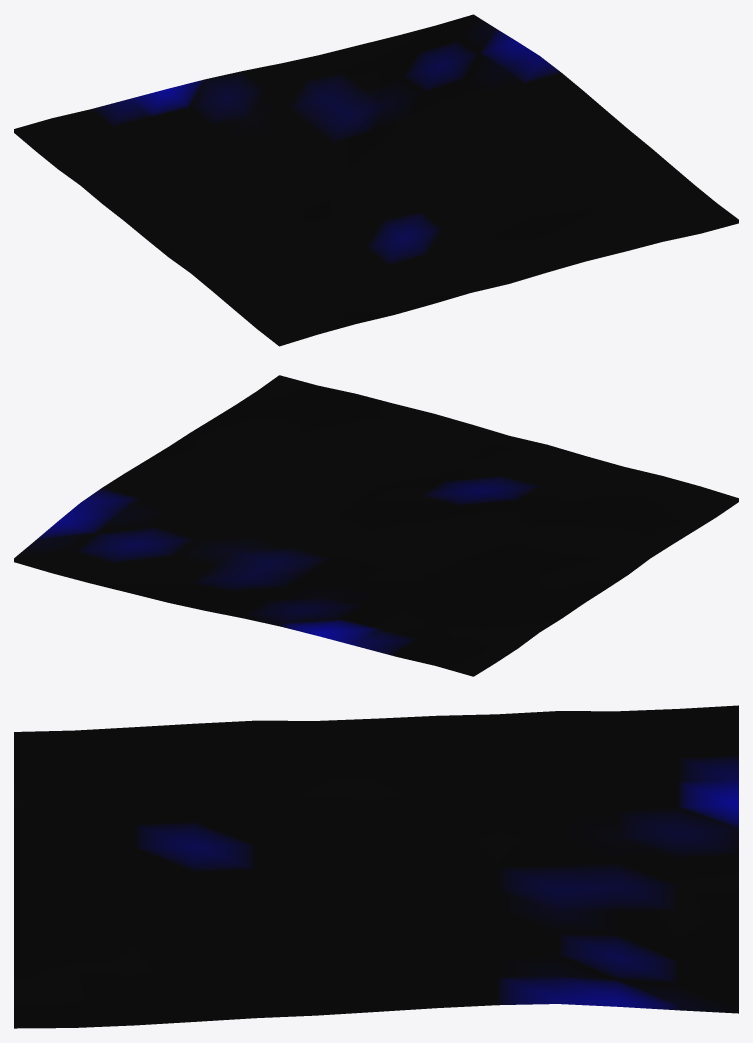
File: coast_3_5.glb
The picture shows the model from 3 angles, top to bottom: view 1: azimuth 30°, elevation 25°; view 2: azimuth 150°, elevation 25°; view 3: azimuth 270°, elevation 25°; orthographic projection. The views are drawn at different scales.
Visible parts, largest first — view 1: terrain; view 2: terrain; view 3: terrain.
Part boxes in pixels (bbox=[...]): terrain: bbox=[14, 14, 738, 346]; terrain: bbox=[14, 375, 738, 676]; terrain: bbox=[14, 705, 738, 1028].
Size of the model in its own units: 192 by 13.06 by 192.
